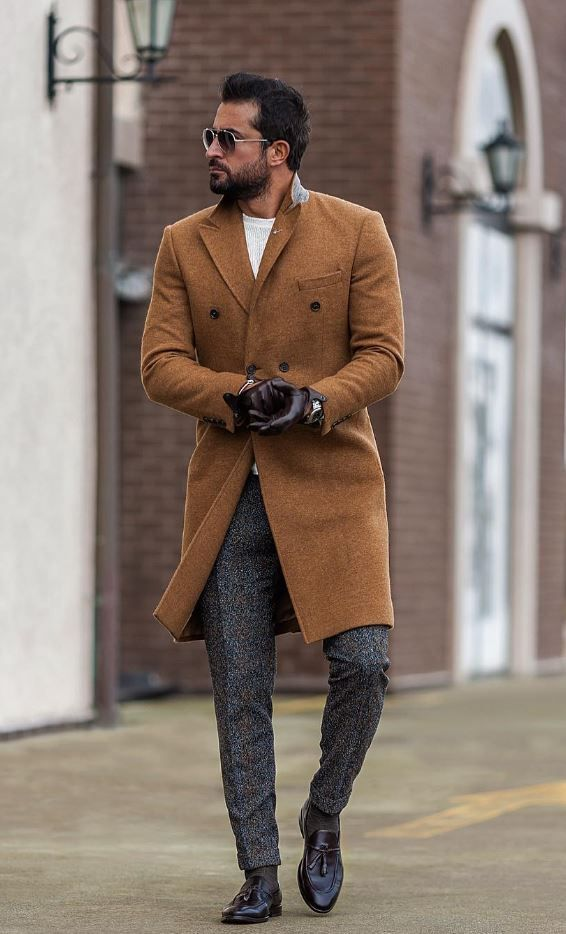person: (135, 70, 413, 923)
